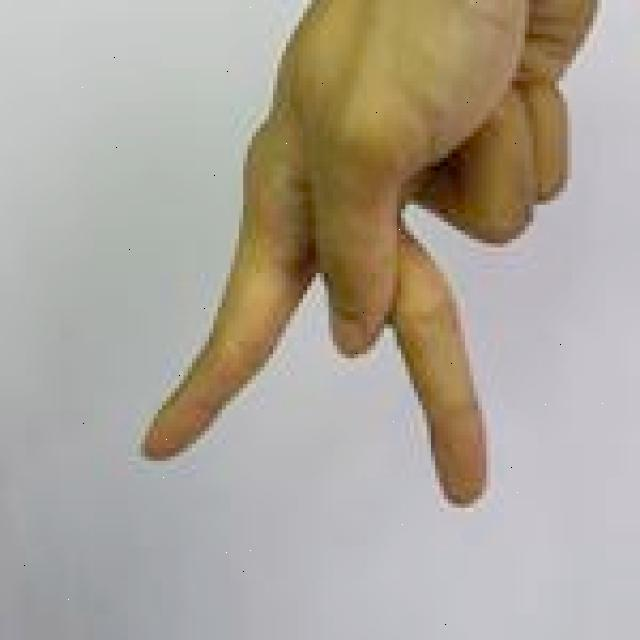P: (127, 0, 609, 514)
